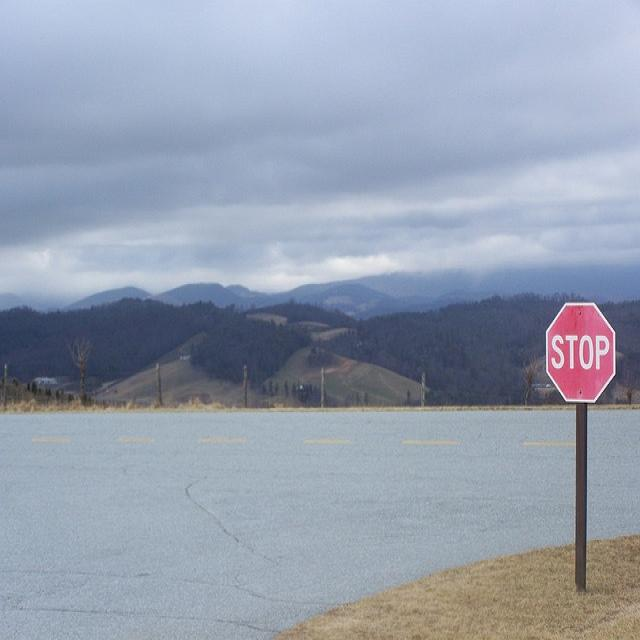pole: (568, 398, 591, 590)
